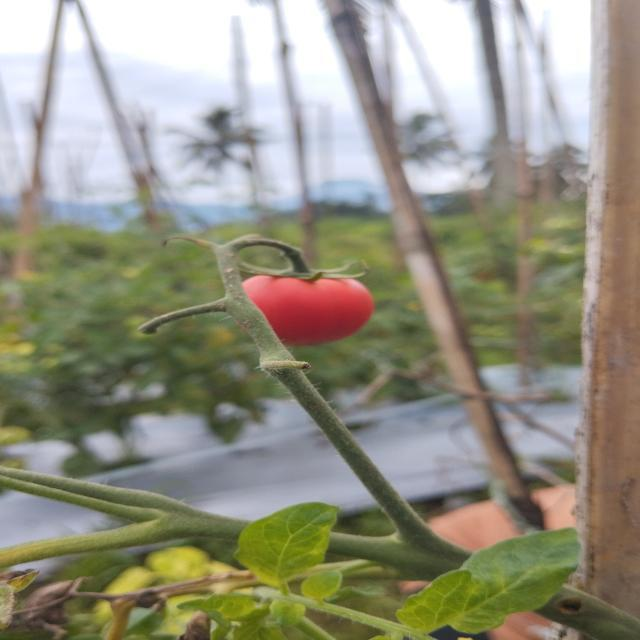Masak: (233, 258, 373, 343)
